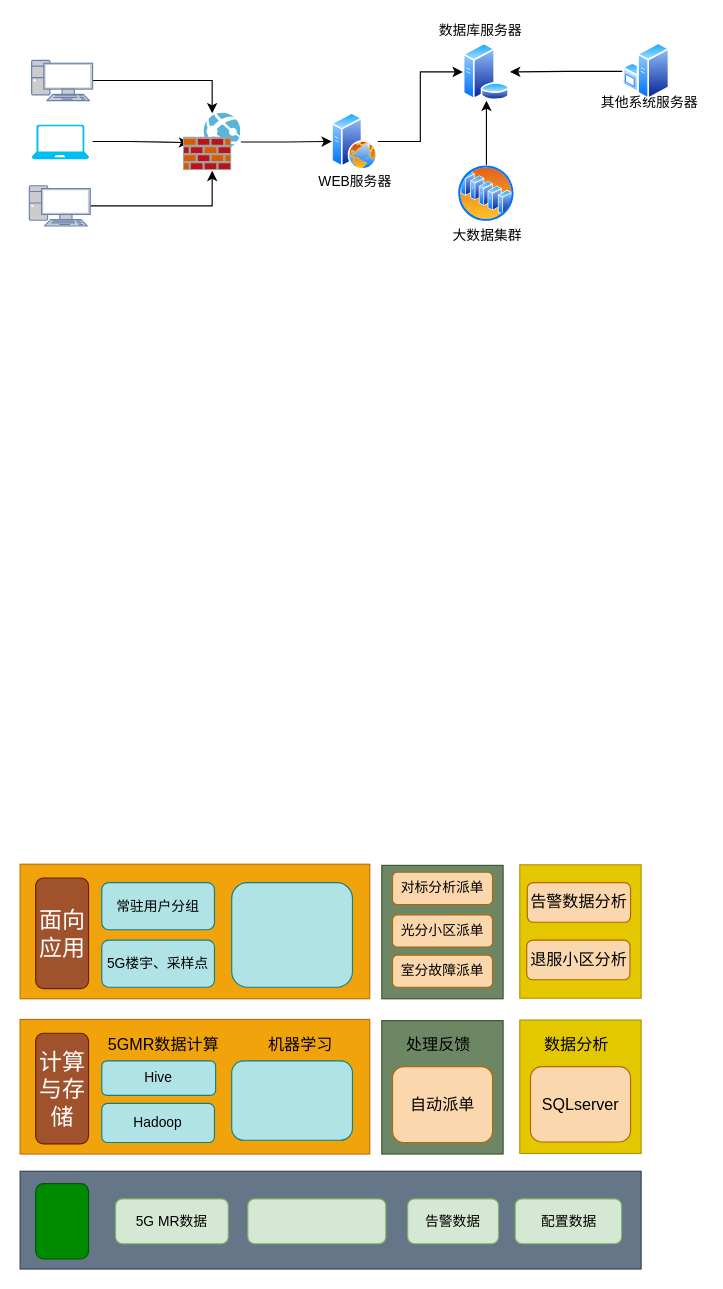
Image size: 723x1289. Some labels were removed from this diagram. Each missing label, with the centre of its shape:
"LightGBM算法" goes at (x=291, y=1100).
"室分小区退服数据" goes at (x=316, y=1221).
"数据接入" goes at (x=61, y=1221).
"楼宇边缘用户 归属建模" goes at (x=291, y=934).
"防火墙" goes at (x=211, y=141).
